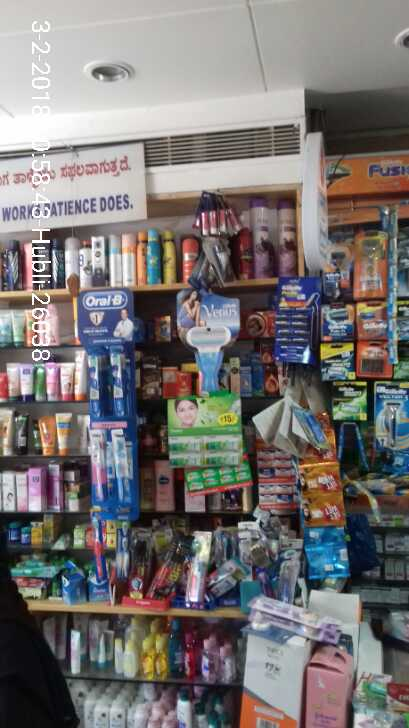beauty: (312, 270, 397, 379), (361, 384, 409, 474)
pharmacy: (107, 348, 134, 418), (110, 433, 130, 509), (88, 434, 107, 504), (87, 351, 102, 415)
